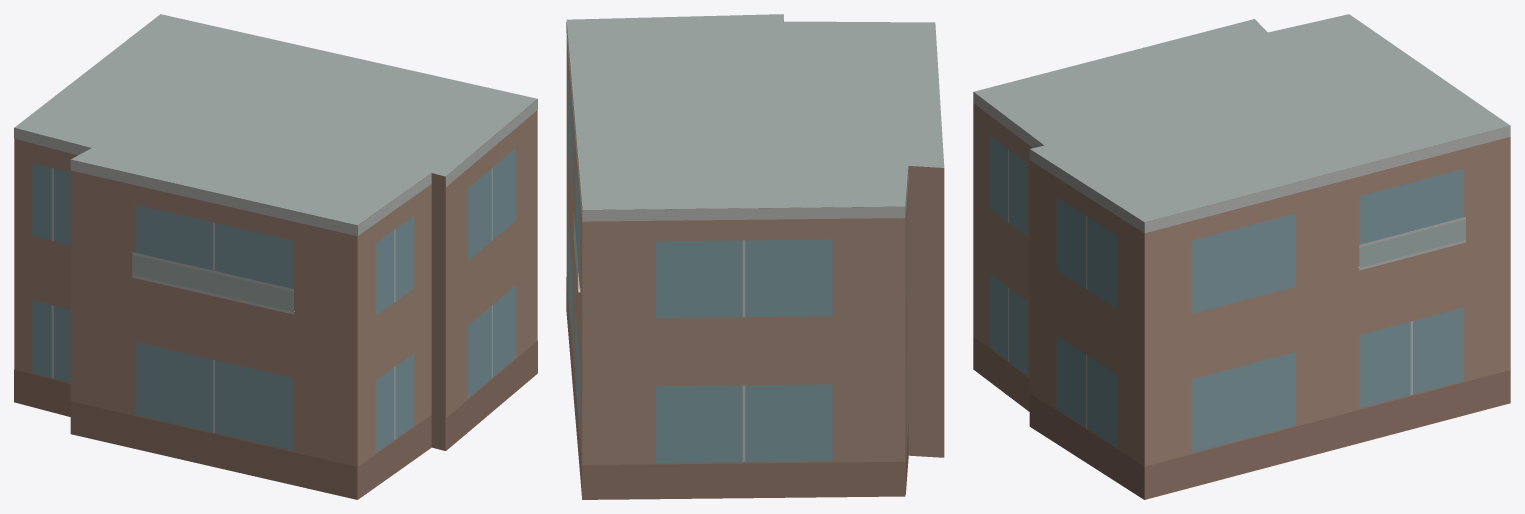
File: survey-upis-32720219.glb
The picture shows the model from 3 angles, left to right: view 1: azimuth 30°, elevation 25°; view 2: azimuth 150°, elevation 25°; view 3: azimuth 270°, elevation 25°; orthographic projection. The views are drawn at different scales.
Visible parts, largest first — view 1: survey-upis-32720219.tmp; view 2: survey-upis-32720219.tmp; view 3: survey-upis-32720219.tmp.
Part boxes in pixels (x1,y1,x2,y2): survey-upis-32720219.tmp: (14, 14, 537, 499); survey-upis-32720219.tmp: (566, 14, 944, 499); survey-upis-32720219.tmp: (973, 14, 1510, 499).
Bounding box in the file's own units: 9.83 × 6.1 × 10.71.
